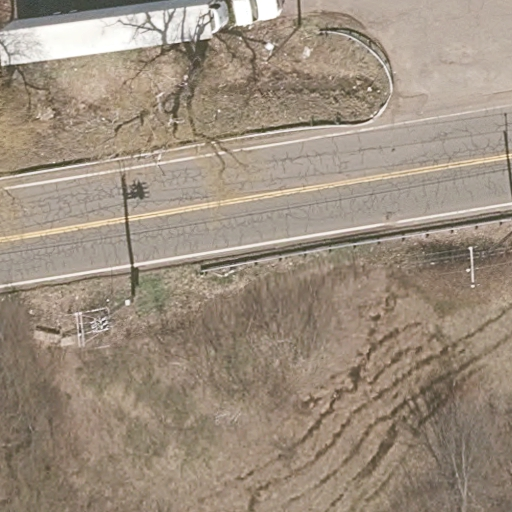DT: (75, 295, 134, 351), (465, 219, 512, 287)
